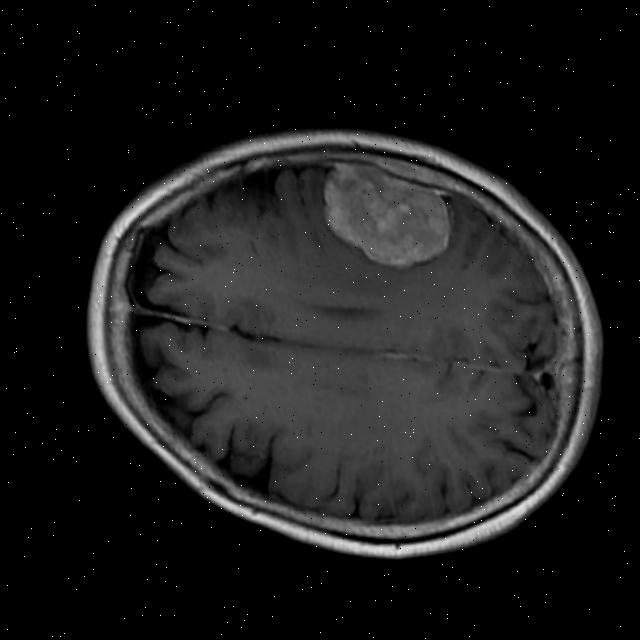Meningioma: (310, 142, 462, 281)
